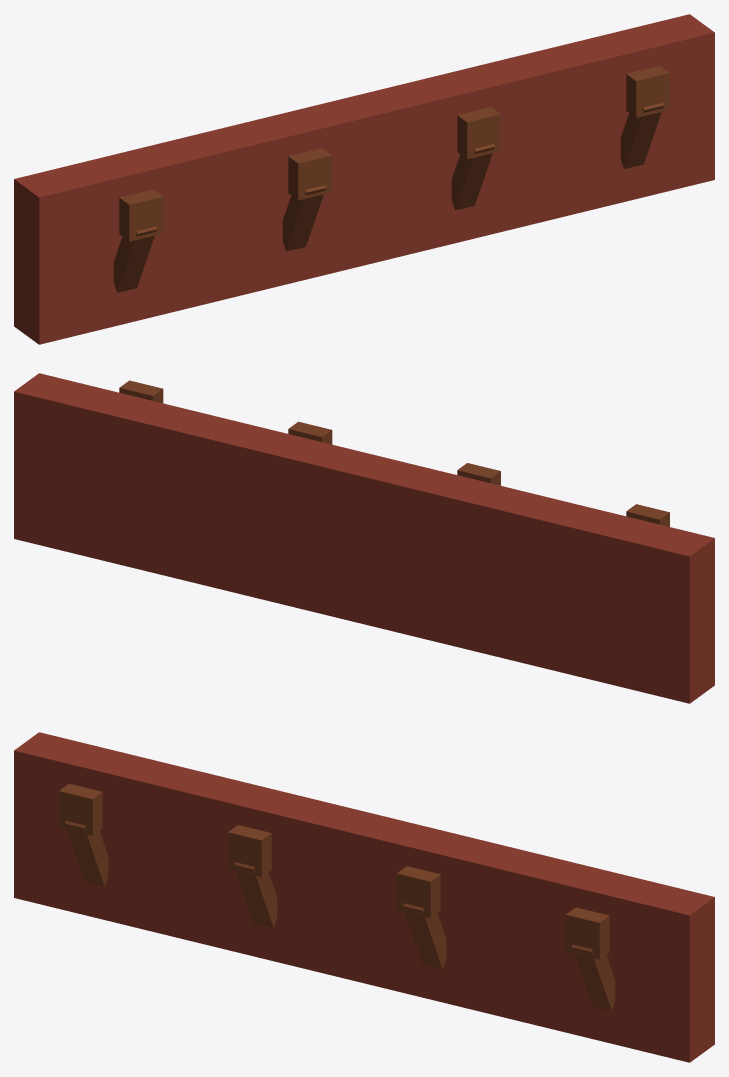
Rendered from FRM_020_D_LODs.fbx.
3 views of the same model, one above another, from view 1: azimuth 30°, elevation 25°; view 2: azimuth 150°, elevation 25°; view 3: azimuth 330°, elevation 25° (orthographic).
Visible parts, largest first — view 1: FRM_020_D_LOD0; view 2: FRM_020_D_LOD0; view 3: FRM_020_D_LOD0.
Boxes of the visible parts, x1,y1,x2,y2 form: FRM_020_D_LOD0: (14,14,714,344); FRM_020_D_LOD0: (14,373,714,703); FRM_020_D_LOD0: (14,732,714,1062).
Size of what is drawn, in the model's own units: 1.2 by 0.25 by 0.15.
